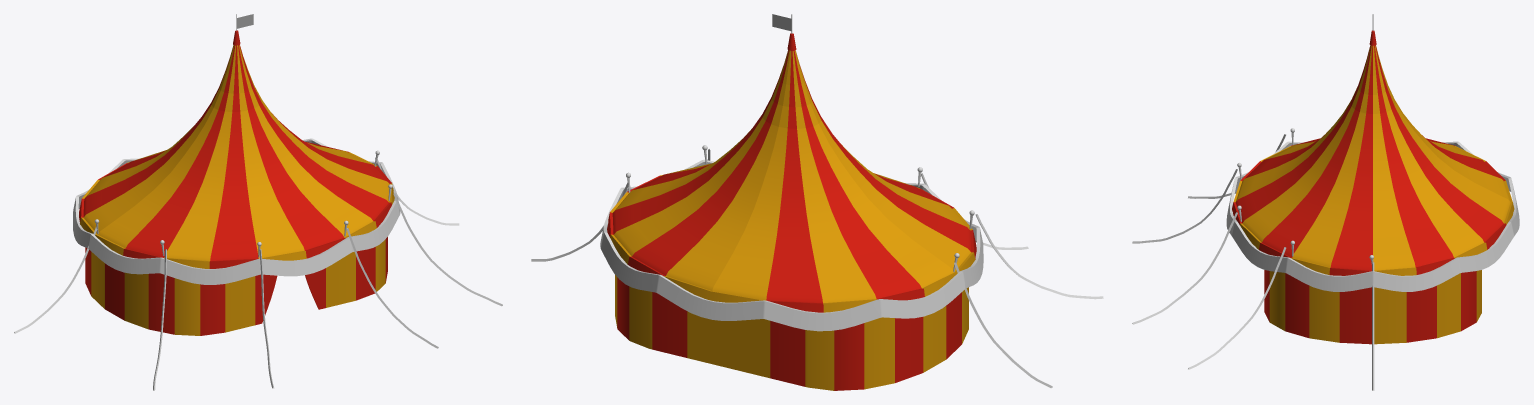
The model's file is largetent_lowpoly.fbx.
3 views of the same model, side by side, from view 1: azimuth 30°, elevation 25°; view 2: azimuth 150°, elevation 25°; view 3: azimuth 270°, elevation 25° (orthographic). The views are drawn at different scales.
Parts seen in each view (by area): view 1: tent_top1, large_circus_tent_bottom, polySurface5, sweep10, sweep6; view 2: tent_top1, large_circus_tent_bottom, polySurface5, sweep5; view 3: tent_top1, large_circus_tent_bottom, polySurface5, sweep10, sweep6, sweep9, sweep11.
Part boxes in pixels (box(x1,y1,x2,y2)): tent_top1: box(79, 30, 394, 268); large_circus_tent_bottom: box(85, 237, 387, 335); polySurface5: box(73, 138, 400, 284); sweep10: box(393, 193, 502, 306); sweep6: box(346, 228, 438, 348); tent_top1: box(607, 33, 976, 312); large_circus_tent_bottom: box(615, 275, 968, 390); polySurface5: box(600, 159, 983, 331); sweep5: box(975, 214, 1103, 299); tent_top1: box(1232, 30, 1514, 275); large_circus_tent_bottom: box(1264, 270, 1481, 344); polySurface5: box(1226, 141, 1519, 291); sweep10: box(1188, 247, 1286, 369); sweep6: box(1132, 212, 1237, 324); sweep9: box(1132, 169, 1237, 243); sweep11: box(1372, 262, 1374, 390).
Bounding box in the file's own units: 57.34 × 32.88 × 42.83.
